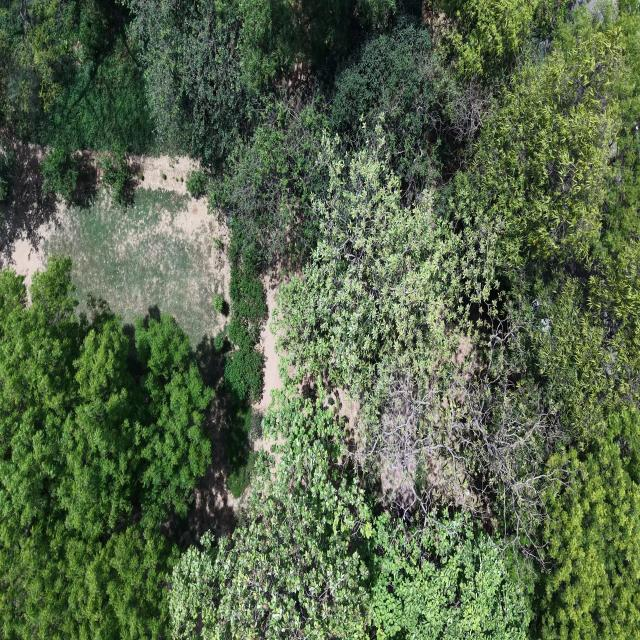DRY_AREA: (0, 146, 229, 349), (0, 147, 229, 347), (9, 157, 228, 345)
VEGETATION_TREE: (0, 0, 639, 639), (279, 9, 639, 637), (279, 141, 566, 546), (169, 388, 530, 639), (0, 259, 212, 638), (450, 11, 638, 438), (278, 127, 477, 394), (207, 95, 325, 406), (33, 174, 225, 350), (329, 16, 489, 197), (0, 0, 154, 152), (538, 407, 639, 637), (125, 0, 254, 166), (208, 94, 327, 268), (370, 515, 531, 639), (33, 2, 156, 153), (234, 0, 394, 90), (223, 222, 267, 497), (442, 0, 568, 83), (225, 232, 267, 403), (225, 400, 260, 498), (225, 312, 263, 402), (40, 139, 78, 202), (99, 145, 131, 203), (0, 143, 16, 202), (185, 169, 207, 197), (212, 294, 227, 313), (212, 332, 226, 352), (212, 236, 224, 254), (139, 173, 144, 181), (162, 173, 166, 180), (180, 177, 183, 182)
